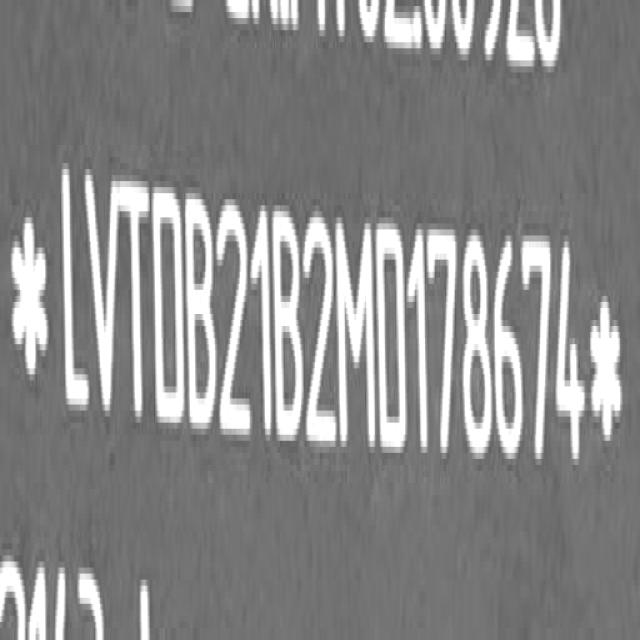1: (408, 233, 432, 452), (252, 210, 274, 436)
2: (216, 199, 254, 445), (304, 210, 338, 456)
4: (554, 230, 587, 465)
7: (426, 219, 460, 463), (522, 225, 551, 460)
8: (461, 232, 495, 454), (494, 221, 523, 461)
B: (183, 186, 217, 436), (270, 197, 304, 445)
D: (373, 211, 410, 458), (150, 166, 185, 427)
L: (60, 143, 90, 421)
M: (334, 215, 377, 450)
T: (118, 161, 152, 425)
V: (86, 147, 119, 420)
